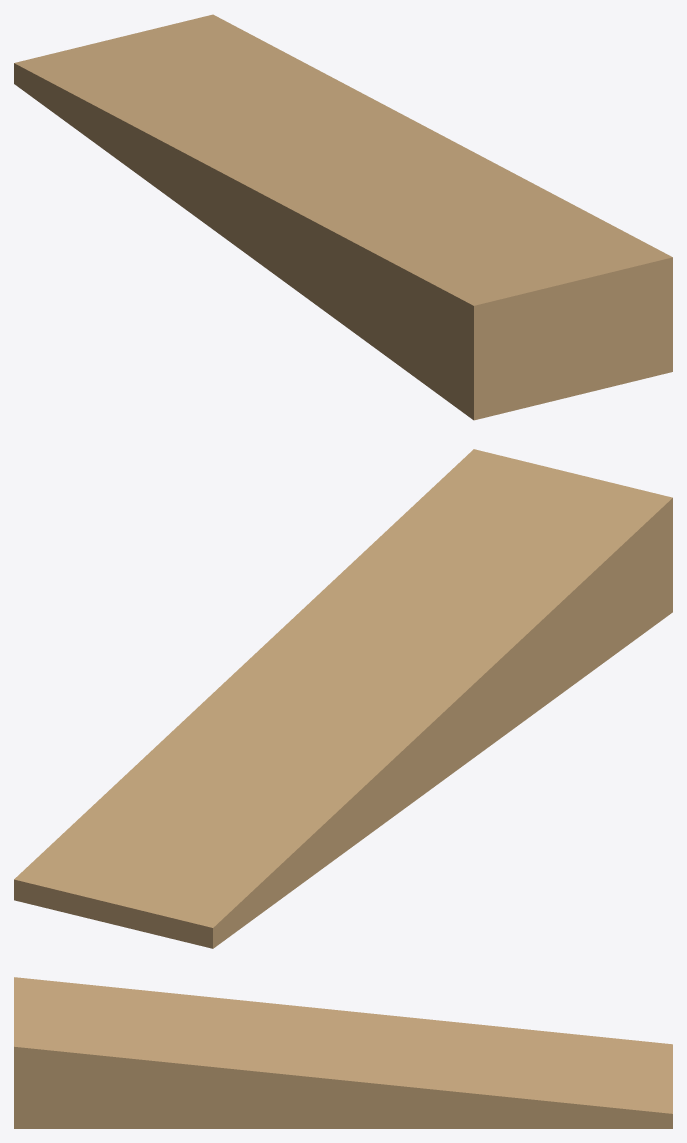
File: prop-plane-wedge-blank-pi1.fbx
3 renders of one model, top to bottom at view 1: azimuth 30°, elevation 25°; view 2: azimuth 150°, elevation 25°; view 3: azimuth 270°, elevation 25°, orthographic. The views are drawn at different scales.
Visible parts, largest first — view 1: prop-plane-wedge-blank-pi1; view 2: prop-plane-wedge-blank-pi1; view 3: prop-plane-wedge-blank-pi1.
Boxes of the visible parts, x1,y1,x2,y2 form: prop-plane-wedge-blank-pi1: (14, 14, 672, 420); prop-plane-wedge-blank-pi1: (14, 449, 672, 948); prop-plane-wedge-blank-pi1: (14, 977, 672, 1128).
Bounding box in the file's own units: 4 × 2.2 × 16.
